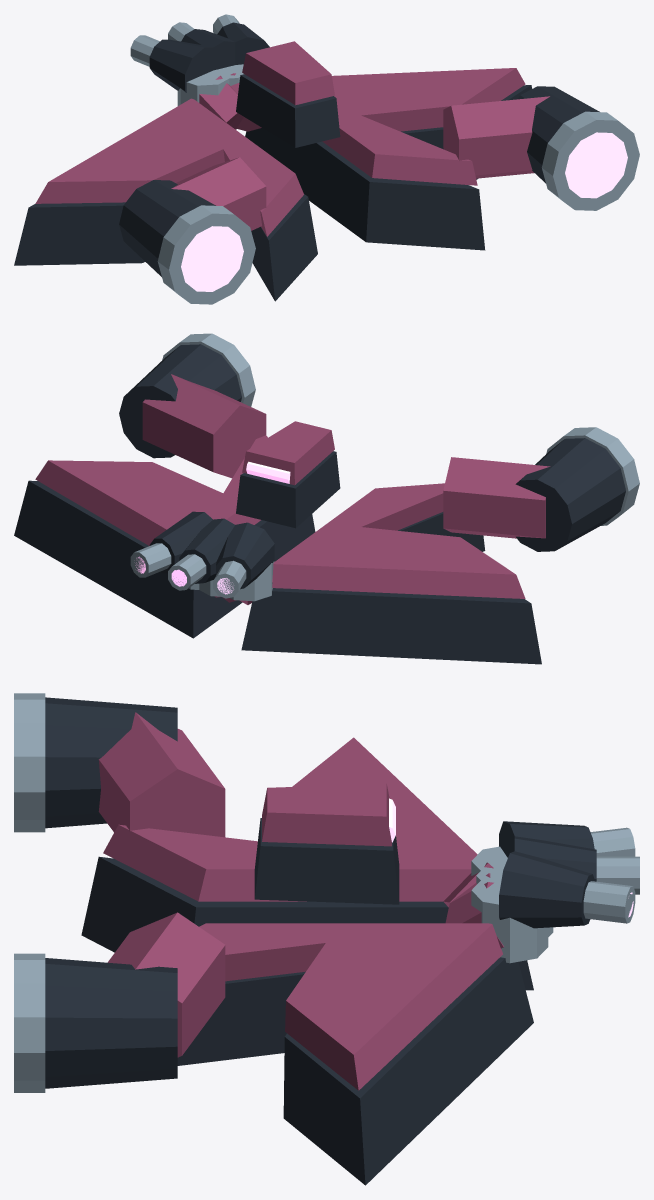
Rendered from c2_ufofast.glb.
3 views of the same model, one above another, from view 1: azimuth 30°, elevation 25°; view 2: azimuth 150°, elevation 25°; view 3: azimuth 270°, elevation 25° (orthographic). The views are drawn at different scales.
Parts seen in each view (by area): view 1: ufofast / Armor, ufofast / Chassis, ufofast / Titanium, ufofast / Energy; view 2: ufofast / Chassis, ufofast / Armor, ufofast / Titanium, ufofast / Energy; view 3: ufofast / Chassis, ufofast / Armor, ufofast / Titanium.
Boxes of the visible parts, left/top/right/bottom form: ufofast / Armor: left=35, top=41, right=549, bottom=236; ufofast / Chassis: left=14, top=22, right=599, bottom=301; ufofast / Titanium: left=130, top=14, right=639, bottom=304; ufofast / Energy: left=181, top=132, right=627, bottom=291; ufofast / Chassis: left=14, top=344, right=625, bottom=664; ufofast / Armor: left=35, top=374, right=550, bottom=604; ufofast / Titanium: left=130, top=333, right=639, bottom=601; ufofast / Energy: left=135, top=461, right=290, bottom=594; ufofast / Chassis: left=45, top=697, right=596, bottom=1185; ufofast / Armor: left=98, top=712, right=503, bottom=1090; ufofast / Titanium: left=14, top=693, right=639, bottom=1092.
Size of the model in its own units: 1.76 by 0.473 by 1.3.
